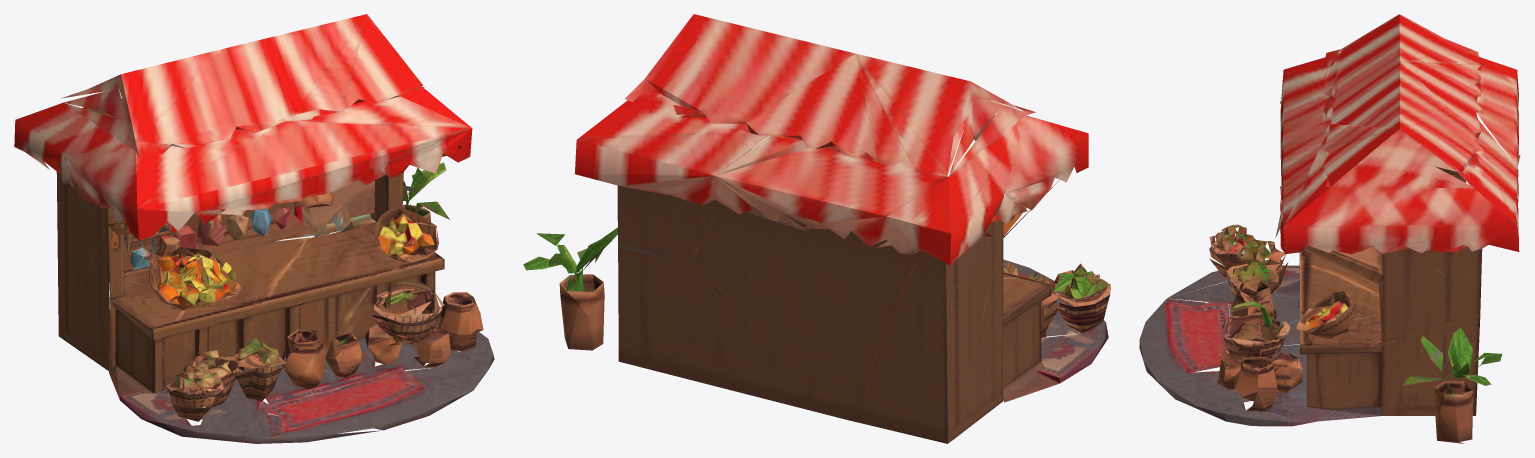
The model's file is prop_stall.glb.
The picture shows the model from 3 angles, left to right: view 1: azimuth 30°, elevation 25°; view 2: azimuth 150°, elevation 25°; view 3: azimuth 270°, elevation 25°; orthographic projection. The views are drawn at different scales.
Parts seen in each view (by area): view 1: body; view 2: body; view 3: body.
Boxes of the visible parts, x1,y1,x2,y2 form: body: (14, 14, 494, 443); body: (523, 14, 1110, 443); body: (1139, 14, 1520, 443).
Size of the model in its own units: 5.12 by 3.5 by 4.38.
1 material, 1 textured.
